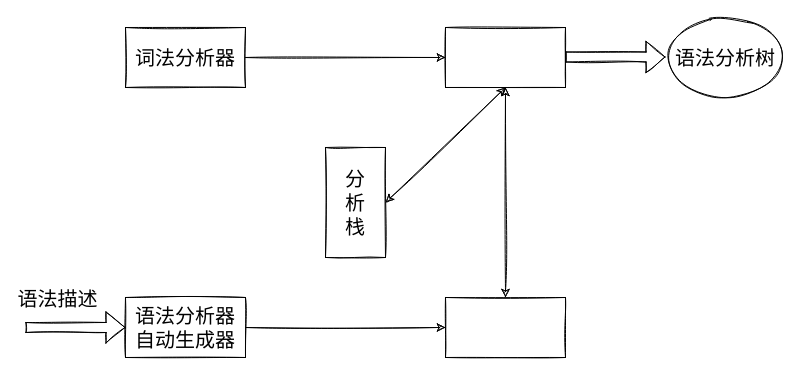
The diagram is 803 pixels wide and 375 high, and some of its shapes have lost their labels. Here are the shapes that lost their labels. From the top down, the box of each, then its label:
(444, 26, 566, 88): 语法分析器
(444, 296, 566, 358): 分析表
